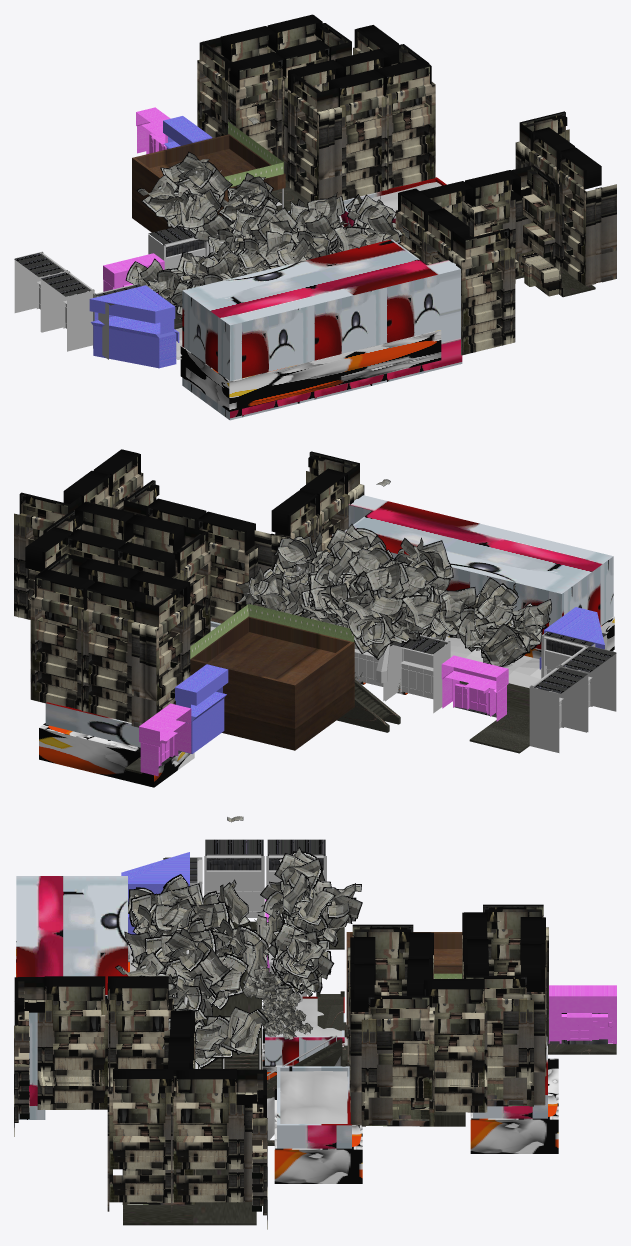
3 views of the same model, one above another, from view 1: azimuth 30°, elevation 25°; view 2: azimuth 150°, elevation 25°; view 3: azimuth 270°, elevation 25° (orthographic). The views are drawn at different scales.
Visible parts, largest first — view 1: object 708, c83d86f3dd59d547cc310ce502d8f9ac.004_c83d86f3dd59d547cc310ce, c83d86f3dd59d547cc310ce502d8f9ac.005_c83d86f3dd59d547cc310ce, c83d86f3dd59d547cc310ce502d8f9ac.002_c83d86f3dd59d547cc310ce, c83d86f3dd59d547cc310ce502d8f9ac.001_c83d86f3dd59d547cc310ce, c83d86f3dd59d547cc310ce502d8f9ac.003_c83d86f3dd59d547cc310ce, object 712, 3-Photoroom.001_3-Photoroom_0, object 482, object 7, object 5, 22 (1).002_22 (1)_0 (+10 smaller); view 2: c83d86f3dd59d547cc310ce502d8f9ac.005_c83d86f3dd59d547cc310ce, object 482, object 708, c83d86f3dd59d547cc310ce502d8f9ac.004_c83d86f3dd59d547cc310ce, c83d86f3dd59d547cc310ce502d8f9ac.001_c83d86f3dd59d547cc310ce, c83d86f3dd59d547cc310ce502d8f9ac.002_c83d86f3dd59d547cc310ce, c83d86f3dd59d547cc310ce502d8f9ac.003_c83d86f3dd59d547cc310ce, object 715, 22 (1).001_22 (1)_0, object 5, 3-Photoroom.003_3-Photoroom_0, object 3 (+22 smaller); view 3: c83d86f3dd59d547cc310ce502d8f9ac.003_c83d86f3dd59d547cc310ce, c83d86f3dd59d547cc310ce502d8f9ac.002_c83d86f3dd59d547cc310ce, c83d86f3dd59d547cc310ce502d8f9ac.004_c83d86f3dd59d547cc310ce, c83d86f3dd59d547cc310ce502d8f9ac.005_c83d86f3dd59d547cc310ce, object 708, c83d86f3dd59d547cc310ce502d8f9ac.006_c83d86f3dd59d547cc310ce, object 715, 22 (1).002_22 (1)_0, object 27, object 1355, object 710, object 26 (+16 smaller).
Part boxes in pixels (box(x1,y1,x2,y2)): object 708: box(182, 239, 462, 420); c83d86f3dd59d547cc310ce502d8f9ac.004_c83d86f3dd59d547cc310ce: box(284, 44, 435, 201); c83d86f3dd59d547cc310ce502d8f9ac.005_c83d86f3dd59d547cc310ce: box(197, 14, 351, 168); c83d86f3dd59d547cc310ce502d8f9ac.002_c83d86f3dd59d547cc310ce: box(395, 188, 515, 355); c83d86f3dd59d547cc310ce502d8f9ac.001_c83d86f3dd59d547cc310ce: box(420, 165, 562, 296); c83d86f3dd59d547cc310ce502d8f9ac.003_c83d86f3dd59d547cc310ce: box(515, 111, 616, 286); object 712: box(180, 330, 441, 411); 3-Photoroom.001_3-Photoroom_0: box(89, 285, 179, 368); object 482: box(132, 134, 285, 232); object 7: box(41, 271, 94, 351); object 5: box(14, 251, 67, 331); 22 (1).002_22 (1)_0: box(136, 107, 170, 154); c83d86f3dd59d547cc310ce502d8f9ac.005_c83d86f3dd59d547cc310ce: box(30, 553, 194, 727); object 482: box(190, 616, 354, 750); object 708: box(344, 495, 613, 651); c83d86f3dd59d547cc310ce502d8f9ac.004_c83d86f3dd59d547cc310ce: box(43, 501, 210, 642); c83d86f3dd59d547cc310ce502d8f9ac.001_c83d86f3dd59d547cc310ce: box(123, 480, 258, 623); c83d86f3dd59d547cc310ce502d8f9ac.002_c83d86f3dd59d547cc310ce: box(245, 451, 364, 615); c83d86f3dd59d547cc310ce502d8f9ac.003_c83d86f3dd59d547cc310ce: box(14, 449, 143, 619); object 715: box(39, 723, 194, 787); 22 (1).001_22 (1)_0: box(441, 655, 508, 721); object 5: box(529, 666, 587, 752); 3-Photoroom.003_3-Photoroom_0: box(175, 664, 228, 753); object 3: box(385, 635, 450, 713); c83d86f3dd59d547cc310ce502d8f9ac.003_c83d86f3dd59d547cc310ce: box(107, 1069, 267, 1229); c83d86f3dd59d547cc310ce502d8f9ac.002_c83d86f3dd59d547cc310ce: box(14, 976, 173, 1136); c83d86f3dd59d547cc310ce502d8f9ac.004_c83d86f3dd59d547cc310ce: box(347, 924, 434, 1126); c83d86f3dd59d547cc310ce502d8f9ac.005_c83d86f3dd59d547cc310ce: box(462, 904, 548, 1106); object 708: box(16, 876, 127, 1119); c83d86f3dd59d547cc310ce502d8f9ac.006_c83d86f3dd59d547cc310ce: box(423, 979, 487, 1112); object 715: box(470, 1058, 558, 1153); 22 (1).002_22 (1)_0: box(548, 985, 616, 1043); object 27: box(274, 1089, 362, 1183); object 1355: box(280, 1071, 347, 1123); object 710: box(123, 1169, 256, 1225); object 26: box(277, 1066, 351, 1148).
Bounding box in the file's own units: 4531 × 1711 × 3809.
